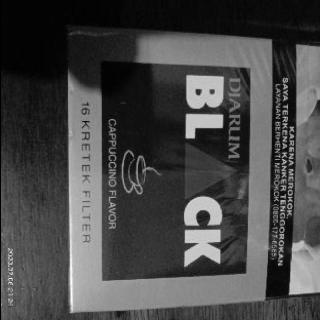objects: (67, 28, 320, 312)
